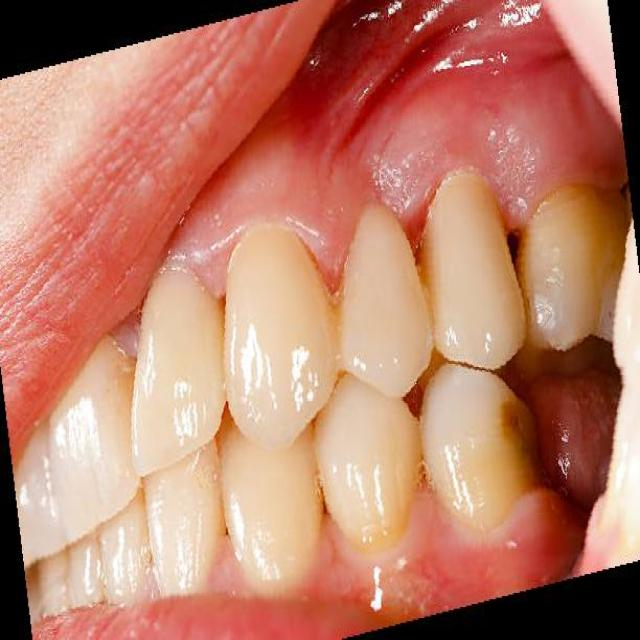caries: (487, 205, 542, 304)
